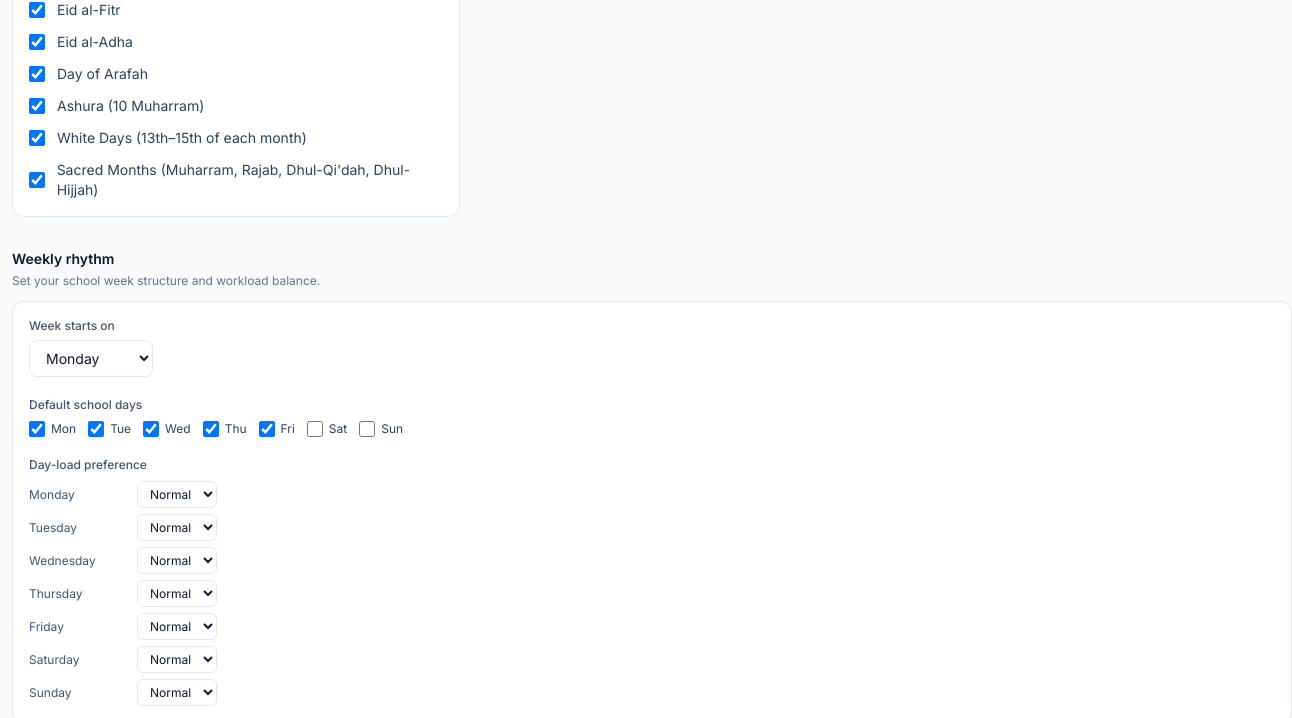
Test: HouseholdSettings — save › Save button becomes enabled after a change
(page scrolled)
Select "Sunday" in the dropdown labelled "Week starts on" at coordinates (91, 358), box [29,340,153,377]
(page scrolled)
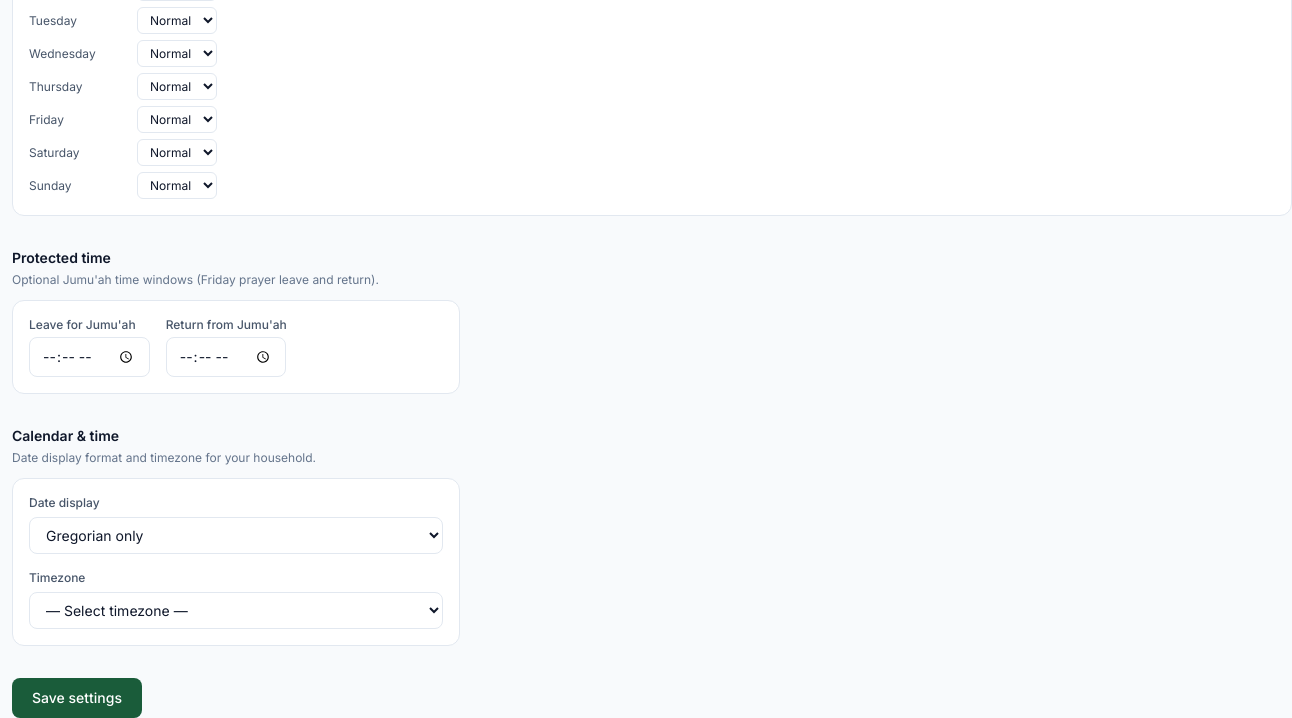
Expected: the button "Save settings" is enabled, [12,678,142,717]
